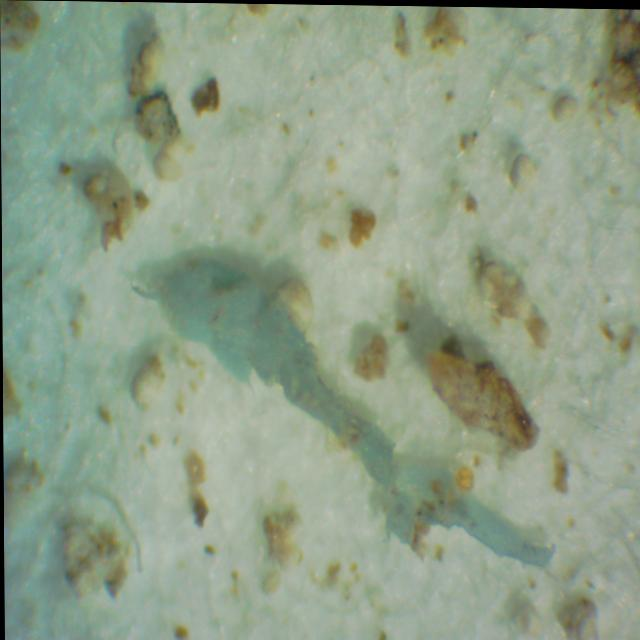microplastic: (158, 258, 551, 571)
